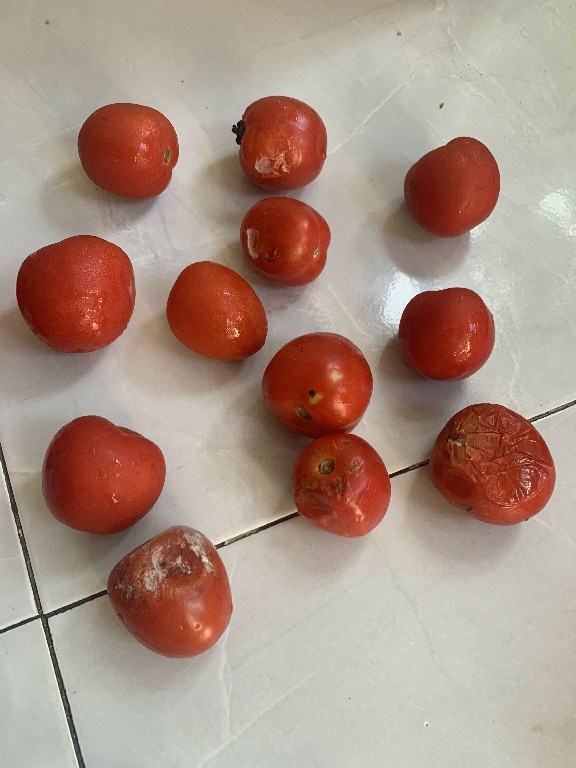NG: (99, 522, 236, 660), (424, 399, 561, 533), (260, 328, 380, 429), (289, 430, 392, 543), (225, 88, 328, 191), (234, 193, 334, 288)
OK: (10, 228, 138, 358), (36, 410, 168, 534), (74, 96, 185, 204), (163, 256, 273, 364), (390, 284, 499, 389), (398, 132, 503, 241)
